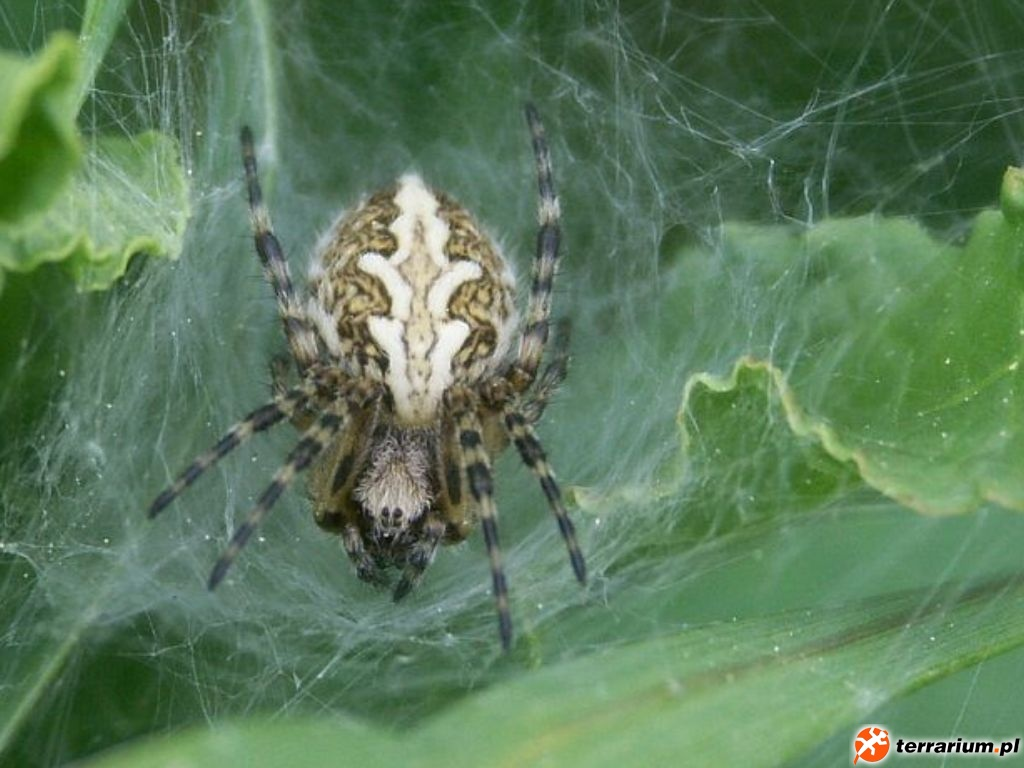spider: (135, 67, 631, 664)
